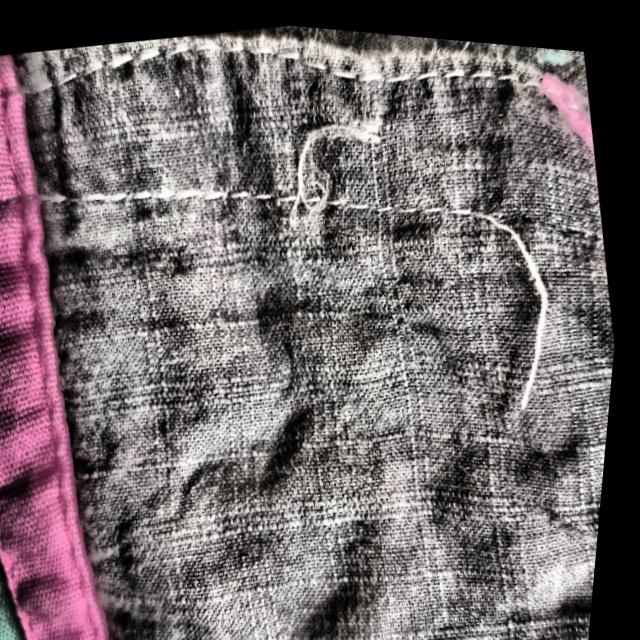Stitch: (241, 22, 598, 464)
